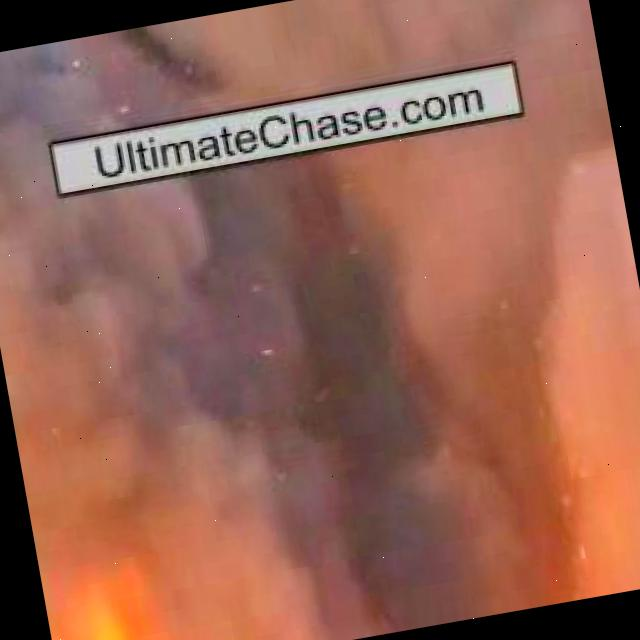fire: (27, 468, 187, 640)
